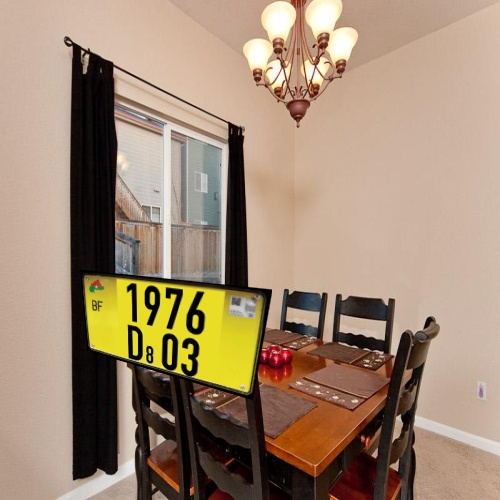plate: (71, 260, 286, 401)
